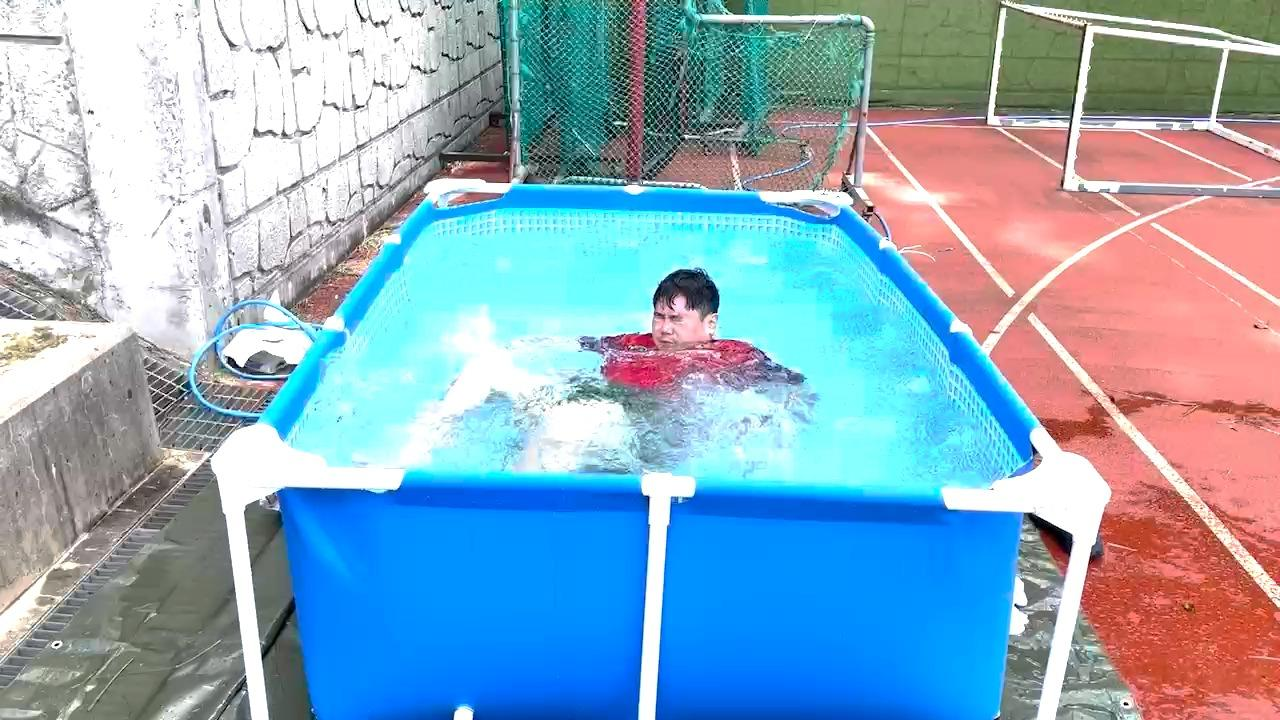Drowning: (429, 268, 774, 468)
